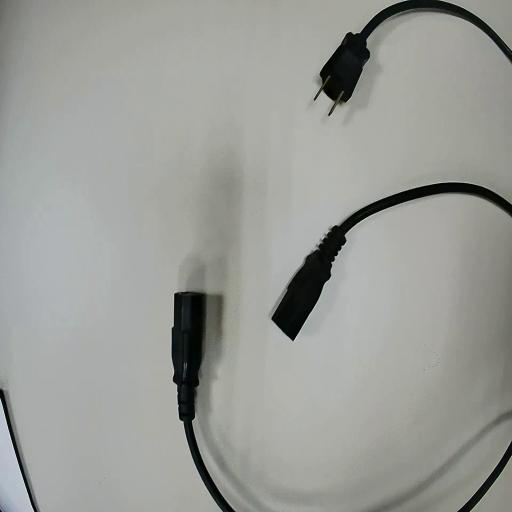wire: (272, 183, 511, 338), (320, 0, 511, 101), (173, 292, 233, 511)
